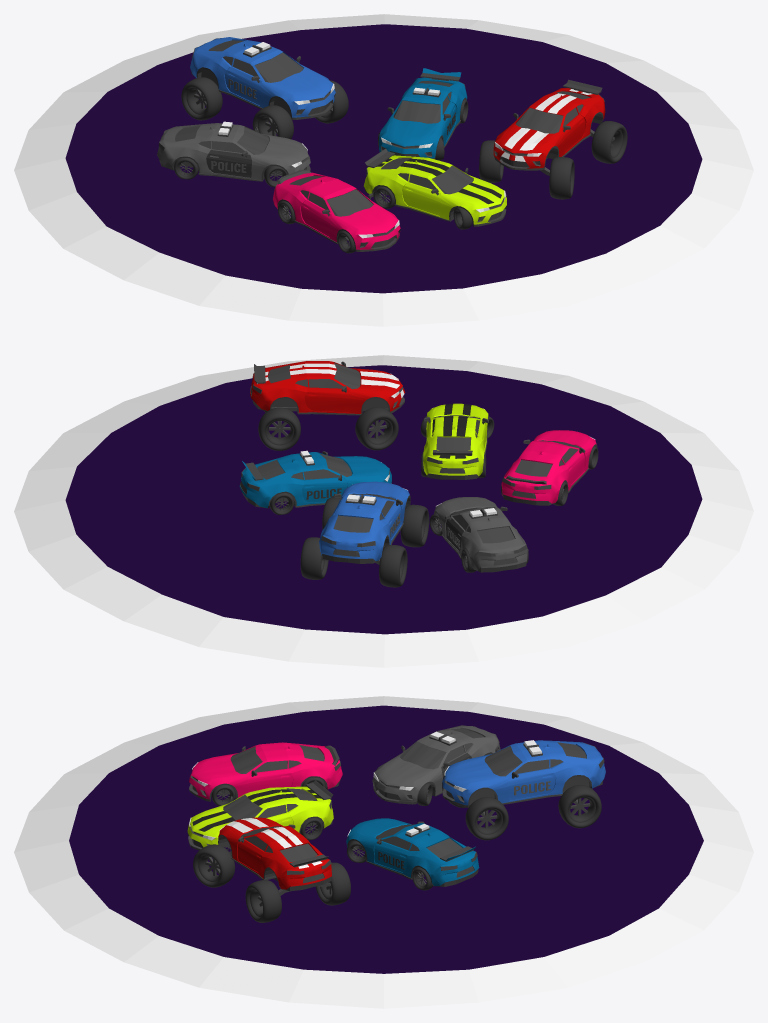
The model's file is Low_Poly_3D_Vehicles_-_6_Cars_Pack.glb.
3 renders of one model, top to bottom at view 1: azimuth 30°, elevation 25°; view 2: azimuth 150°, elevation 25°; view 3: azimuth 270°, elevation 25°, orthographic.
Visible parts, largest first — view 1: pDisc1_lambert29_0, pDisc1_lambert30_0, polySurface43_Windows_Color_0 (×6), Tier_Wheel_Black_0 (×6), polySurface59_Police_Truck_Color_0, polySurface59_Pink_Body_Color_0, polySurface59_Body_Color_Green_0, polySurface59_Police_Black_0, polySurface59_Poice_Blue_0, polySurface59_Truck_Red_Color_0, polySurface65_Second_Body_Color_0 (×4), polySurface59_Truck_White_Body_Clor_0 (+2 smaller); view 2: pDisc1_lambert29_0, pDisc1_lambert30_0, polySurface43_Windows_Color_0 (×6), Tier_Wheel_Black_0 (×5), polySurface59_Truck_Red_Color_0, polySurface59_Poice_Blue_0, polySurface59_Police_Truck_Color_0, polySurface59_Pink_Body_Color_0, polySurface59_Police_Black_0, polySurface59_Body_Color_Green_0, polySurface59_Truck_White_Body_Clor_0, polySurface65_Second_Body_Color_0 (+1 smaller); view 3: pDisc1_lambert29_0, pDisc1_lambert30_0, polySurface43_Windows_Color_0 (×6), polySurface59_Police_Truck_Color_0, Tier_Wheel_Black_0 (×5), polySurface59_Pink_Body_Color_0, polySurface59_Poice_Blue_0, polySurface59_Police_Black_0, polySurface59_Truck_Red_Color_0, polySurface59_Body_Color_Green_0, polySurface65_Second_Body_Color_0 (×3), polySurface59_Black1_0 (+1 smaller).
Boxes of the visible parts, x1=… form: pDisc1_lambert29_0: x1=65, y1=24, x2=702, y2=293; pDisc1_lambert30_0: x1=14, y1=14, x2=753, y2=326; polySurface43_Windows_Color_0 (×6): x1=175, y1=40, x2=589, y2=216; Tier_Wheel_Black_0 (×6): x1=181, y1=77, x2=627, y2=199; polySurface59_Police_Truck_Color_0: x1=190, y1=37, x2=335, y2=117; polySurface59_Pink_Body_Color_0: x1=273, y1=172, x2=400, y2=249; polySurface59_Body_Color_Green_0: x1=363, y1=155, x2=506, y2=224; polySurface59_Police_Black_0: x1=157, y1=123, x2=310, y2=180; polySurface59_Poice_Blue_0: x1=379, y1=77, x2=467, y2=158; polySurface59_Truck_Red_Color_0: x1=493, y1=88, x2=605, y2=168; polySurface65_Second_Body_Color_0 (×4): x1=191, y1=67, x2=603, y2=251; polySurface59_Truck_White_Body_Clor_0: x1=501, y1=89, x2=591, y2=161; pDisc1_lambert29_0: x1=65, y1=365, x2=702, y2=634; pDisc1_lambert30_0: x1=14, y1=355, x2=753, y2=667; polySurface43_Windows_Color_0 (×6): x1=257, y1=363, x2=579, y2=543; Tier_Wheel_Black_0 (×5): x1=258, y1=407, x2=429, y2=587; polySurface59_Truck_Red_Color_0: x1=250, y1=361, x2=405, y2=413; polySurface59_Poice_Blue_0: x1=239, y1=452, x2=391, y2=507; polySurface59_Police_Truck_Color_0: x1=319, y1=481, x2=409, y2=561; polySurface59_Pink_Body_Color_0: x1=501, y1=430, x2=596, y2=503; polySurface59_Police_Black_0: x1=434, y1=497, x2=528, y2=570; polySurface59_Body_Color_Green_0: x1=423, y1=403, x2=488, y2=475; polySurface59_Truck_White_Body_Clor_0: x1=257, y1=363, x2=404, y2=397; polySurface65_Second_Body_Color_0: x1=252, y1=387, x2=404, y2=415; pDisc1_lambert29_0: x1=69, y1=705, x2=703, y2=973; pDisc1_lambert30_0: x1=14, y1=696, x2=753, y2=1008; polySurface43_Windows_Color_0 (×6): x1=223, y1=728, x2=586, y2=862; polySurface59_Police_Truck_Color_0: x1=442, y1=740, x2=605, y2=805; Tier_Wheel_Black_0 (×5): x1=193, y1=785, x2=601, y2=922; polySurface59_Pink_Body_Color_0: x1=189, y1=742, x2=342, y2=799; polySurface59_Poice_Blue_0: x1=346, y1=818, x2=479, y2=885; polySurface59_Police_Black_0: x1=372, y1=725, x2=500, y2=802; polySurface59_Truck_Red_Color_0: x1=218, y1=817, x2=331, y2=889; polySurface59_Body_Color_Green_0: x1=187, y1=786, x2=333, y2=847; polySurface65_Second_Body_Color_0 (×3): x1=218, y1=752, x2=603, y2=891; polySurface59_Black1_0: x1=192, y1=789, x2=321, y2=831.
Size of the model in its own units: 0.7052 by 0.0858 by 0.7052.
